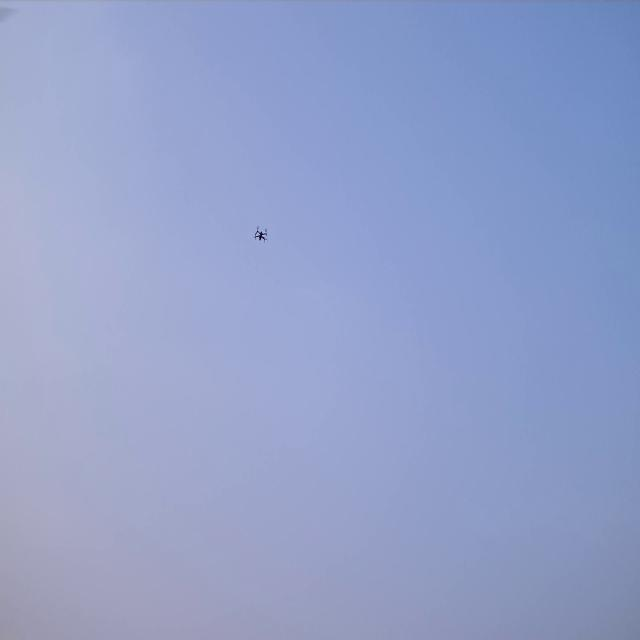UAV: (252, 223, 270, 244)
